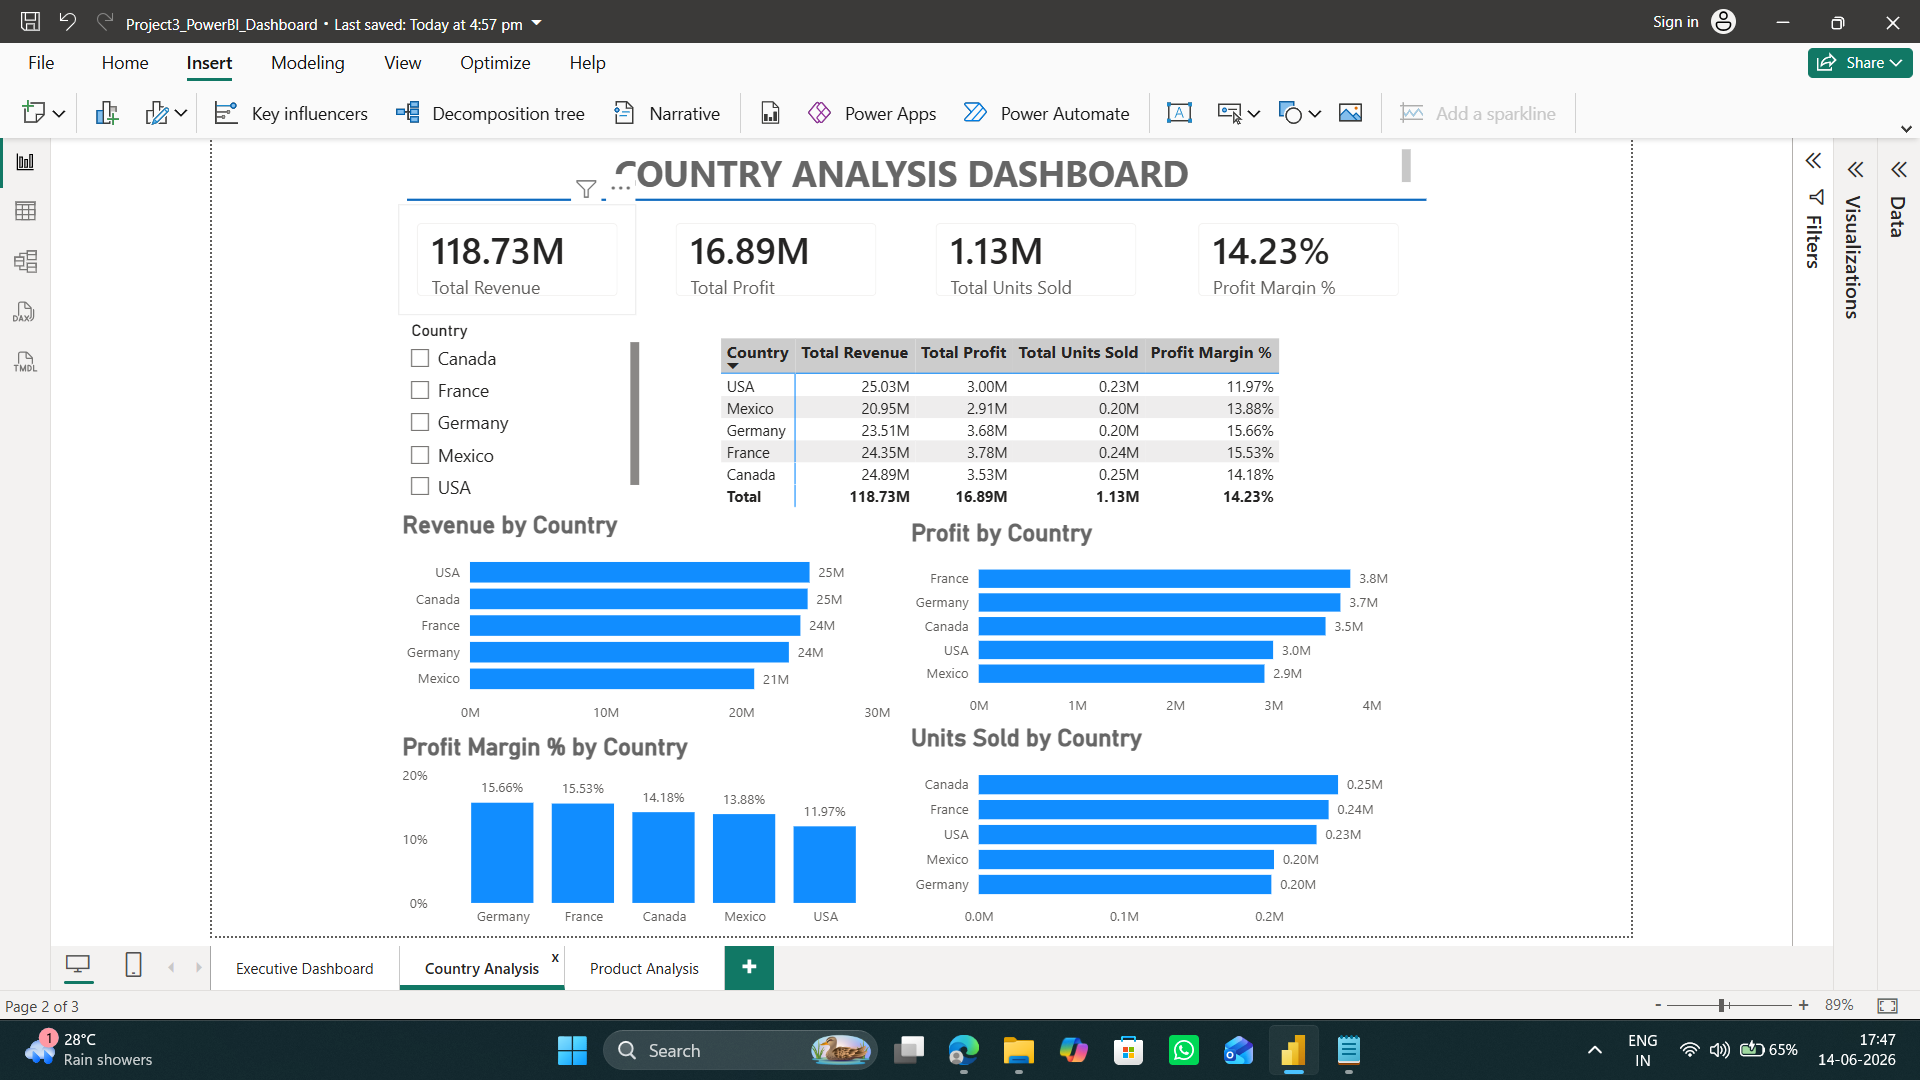

This screenshot's page, from the dashboard's own definition file:
{"tool":"powerbi","page":{"name":"Country Analysis","canvas":[1280,720],"ordinal":1},"visuals":[{"type":"textbox","box":[166,10,920,40],"z":0},{"type":"shape","box":[176.1,50.1,919.6,12.2],"z":1000},{"type":"cardVisual","fields":{"Data":["financials.Total Revenue"]},"box":[167.5,60,215.2,100.3],"z":2000},{"type":"cardVisual","fields":{"Data":["financials.Total Profit"]},"box":[401.1,60,215.2,100.3],"z":3000},{"type":"cardVisual","fields":{"Data":["financials.Total Units Sold"]},"box":[636,60,215.2,100.3],"z":4000},{"type":"slicer","fields":{"Values":["financials.Country"]},"box":[166.3,160.2,223.8,170],"z":5000},{"type":"clusteredBarChart","title":"Revenue by Country","fields":{"Category":["financials.Country"],"Y":["financials.Total Revenue"]},"box":[166.3,336.3,450,200.5],"z":6000},{"type":"clusteredBarChart","title":"Profit by Country","fields":{"Category":["financials.Country"],"Y":["financials.Total Profit"]},"box":[626.1,343.6,450,185.9],"z":7000},{"type":"clusteredBarChart","title":"Units Sold by Country","fields":{"Y":["financials.Total Units Sold"],"Category":["financials.Country"]},"box":[626.1,528.3,450,192],"z":8000},{"type":"clusteredColumnChart","fields":{"Category":["financials.Country"],"Y":["financials.Profit Margin %"]},"box":[166.3,536.8,450,183.4],"z":9000},{"type":"pivotTable","fields":{"Rows":["financials.Country"],"Values":["financials.Total Revenue","financials.Total Profit","financials.Total Units Sold","financials.Profit Margin %"]},"box":[454.2,175.8,514,167.9],"z":10000},{"type":"cardVisual","fields":{"Data":["financials.Profit Margin %"]},"box":[872,60,215,100],"z":11000}]}

Visuals, with their boxes on the page's 1280x720 design canvas (x1, y1, x2, y2). These are canvas units, not pixel positions in the 1920x1080 screenshot, which may show the page scaled, cropped or inside an application window:
textbox: (x1=166, y1=10, x2=1086, y2=50)
shape: (x1=176, y1=50, x2=1096, y2=62)
cardVisual - financials.Total Revenue: (x1=168, y1=60, x2=383, y2=160)
cardVisual - financials.Total Profit: (x1=401, y1=60, x2=616, y2=160)
cardVisual - financials.Total Units Sold: (x1=636, y1=60, x2=851, y2=160)
slicer - financials.Country: (x1=166, y1=160, x2=390, y2=330)
"Revenue by Country" clusteredBarChart: (x1=166, y1=336, x2=616, y2=537)
"Profit by Country" clusteredBarChart: (x1=626, y1=344, x2=1076, y2=530)
"Units Sold by Country" clusteredBarChart: (x1=626, y1=528, x2=1076, y2=720)
clusteredColumnChart - financials.Country x financials.Profit Margin %: (x1=166, y1=537, x2=616, y2=720)
pivotTable - financials.Country x financials.Total Revenue: (x1=454, y1=176, x2=968, y2=344)
cardVisual - financials.Profit Margin %: (x1=872, y1=60, x2=1087, y2=160)
